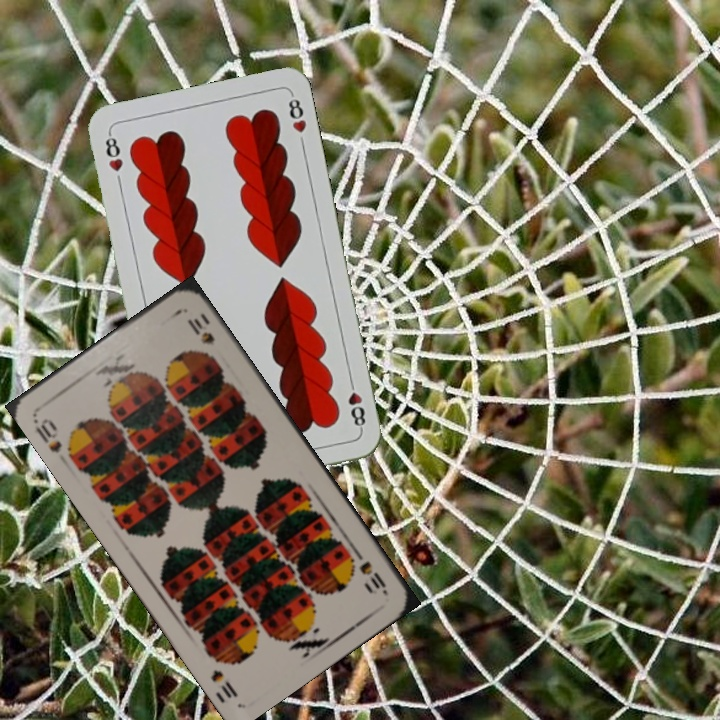H8: (344, 374, 368, 433), (101, 129, 126, 175)
S10: (349, 545, 390, 597), (31, 414, 65, 455)
